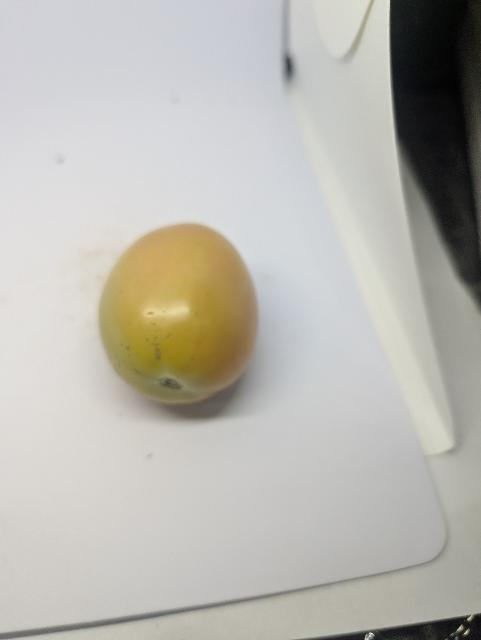breaker: (99, 224, 258, 404)
